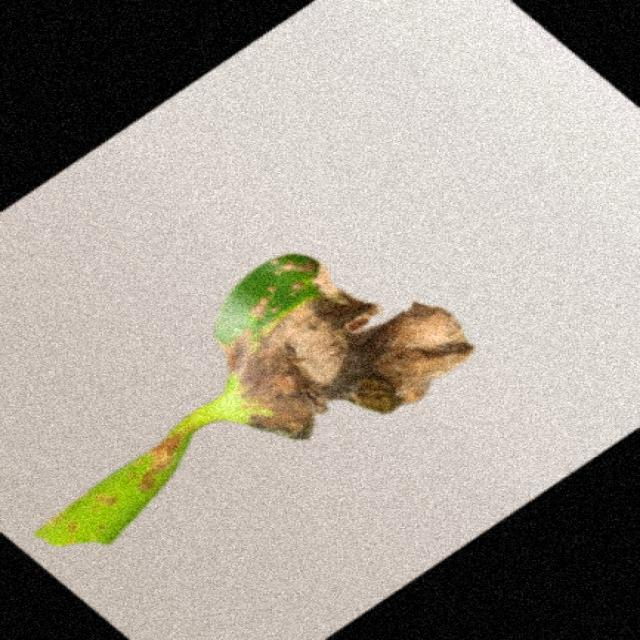daun berpenyakit karat: (35, 256, 473, 545)
